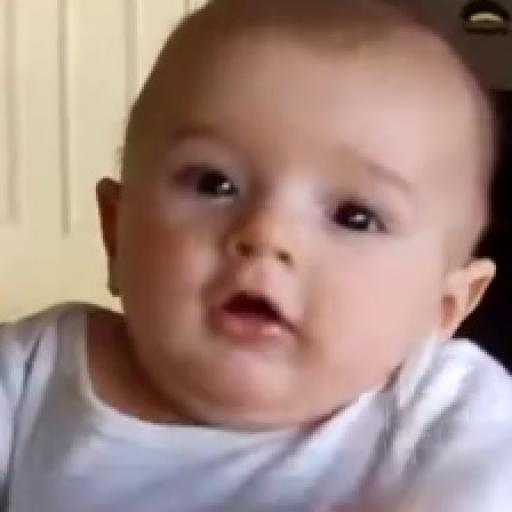Autism: (62, 12, 430, 364)
